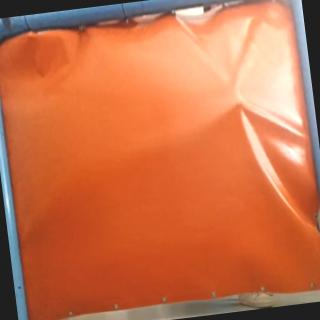Hit-hRxx: (234, 97, 246, 109)
